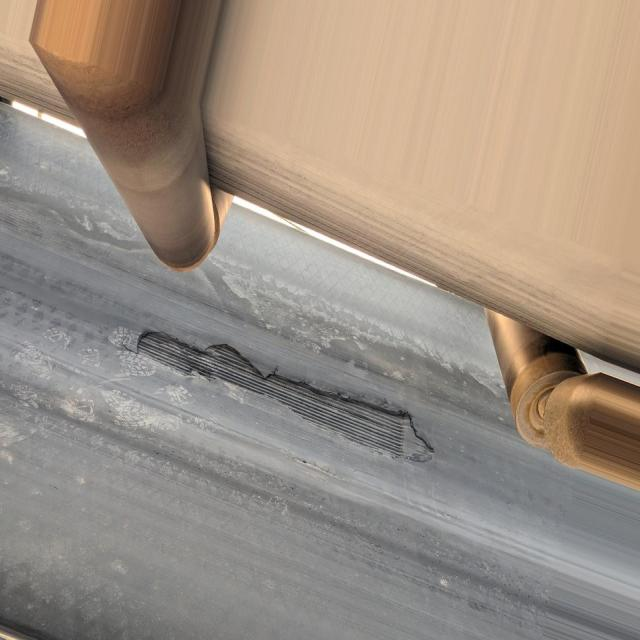Roller: (30, 0, 224, 270), (483, 311, 640, 481)
Tear: (131, 319, 443, 464)
